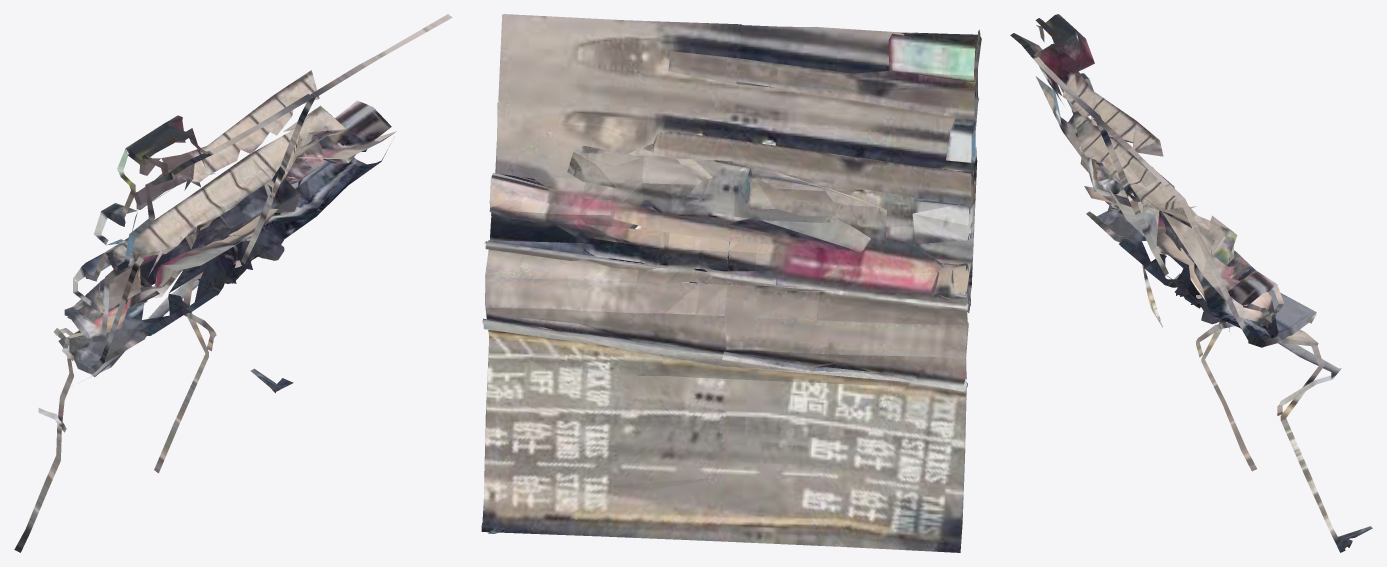
File: AJVsH2z-Qqc_ol6O89bFEqtayiczELXjkn9aMGMEby_YRCyxwU3wFZM4be323l7-OrCIhJ6j6aavr1AJ-Rks7xUgf1lVTwaXs1Kkw36VaO20UzsZPfd7x4H1B3e8VNG-bh4KbmKUzUaLQya8ahyALD038jBE.glb
3 renders of one model, left to right at view 1: azimuth 30°, elevation 25°; view 2: azimuth 150°, elevation 25°; view 3: azimuth 270°, elevation 25°, orthographic. The views are drawn at different scales.
Bounding box in the file's own units: 38.48 × 36.83 × 30.21.
Materials: 1 (1 with a texture image).
